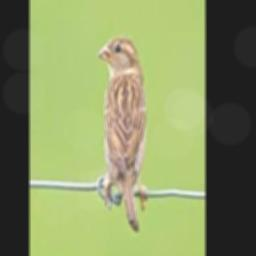Sparrow: (97, 34, 145, 231)
